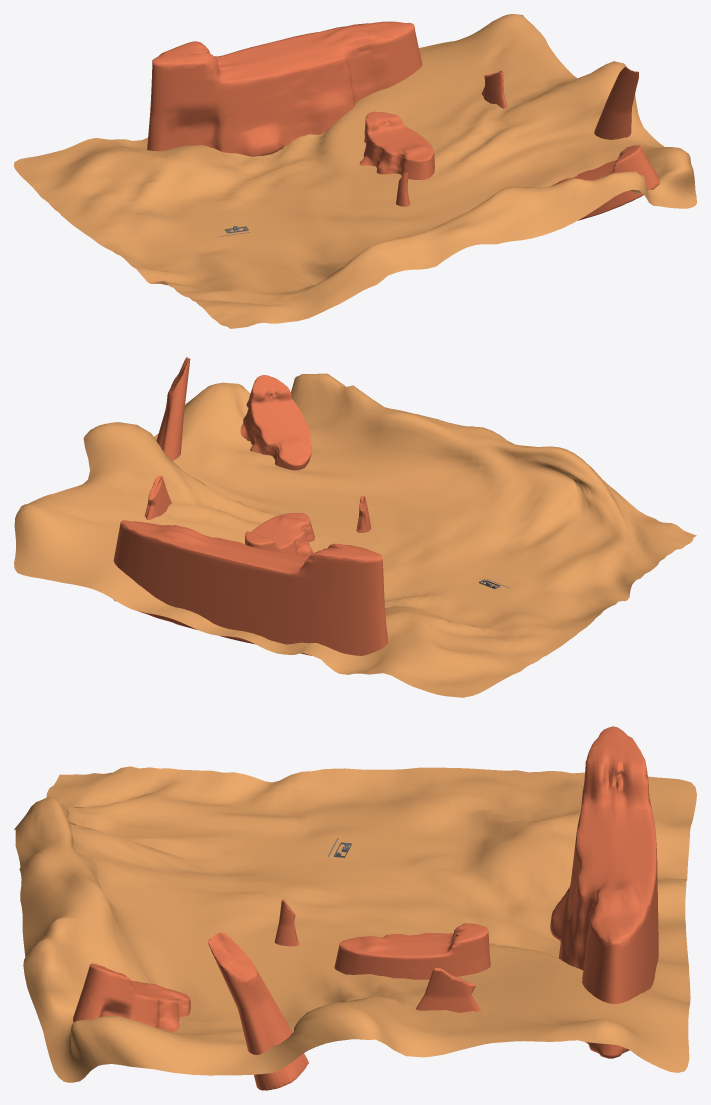
The model's file is Level1.fbx.
The picture shows the model from 3 angles, top to bottom: view 1: azimuth 30°, elevation 25°; view 2: azimuth 150°, elevation 25°; view 3: azimuth 270°, elevation 25°; orthographic projection. The views are drawn at different scales.
Parts seen in each view (by area): view 1: Terrain, Mountain.001, Mountain, Mountain.002, Pyre.001, Pyre.002; view 2: Terrain, Mountain.001, Mountain.002, Mountain, Pyre.001, Pyre.002; view 3: Terrain, Mountain.001, Mountain, Pyre.001, Mountain.002, Pyre.002, Pyre.
Boxes of the visible parts, x1=… form: Terrain: x1=14, y1=14, x2=696, y2=328; Mountain.001: x1=147, y1=21, x2=422, y2=156; Mountain: x1=359, y1=111, x2=434, y2=179; Mountain.002: x1=551, y1=145, x2=659, y2=220; Pyre.001: x1=594, y1=67, x2=638, y2=139; Pyre.002: x1=482, y1=70, x2=507, y2=108; Terrain: x1=14, y1=373, x2=696, y2=697; Mountain.001: x1=113, y1=520, x2=387, y2=655; Mountain.002: x1=240, y1=375, x2=311, y2=470; Mountain: x1=245, y1=513, x2=314, y2=557; Pyre.001: x1=156, y1=357, x2=190, y2=460; Pyre.002: x1=144, y1=476, x2=171, y2=519; Terrain: x1=14, y1=766, x2=696, y2=1082; Mountain.001: x1=550, y1=726, x2=658, y2=1058; Mountain: x1=334, y1=923, x2=490, y2=979; Pyre.001: x1=207, y1=932, x2=308, y2=1090; Mountain.002: x1=73, y1=963, x2=190, y2=1031; Pyre.002: x1=416, y1=968, x2=481, y2=1012; Pyre: x1=274, y1=899, x2=299, y2=946.
Bounding box in the file's own units: 7824 × 1763 × 6387.
